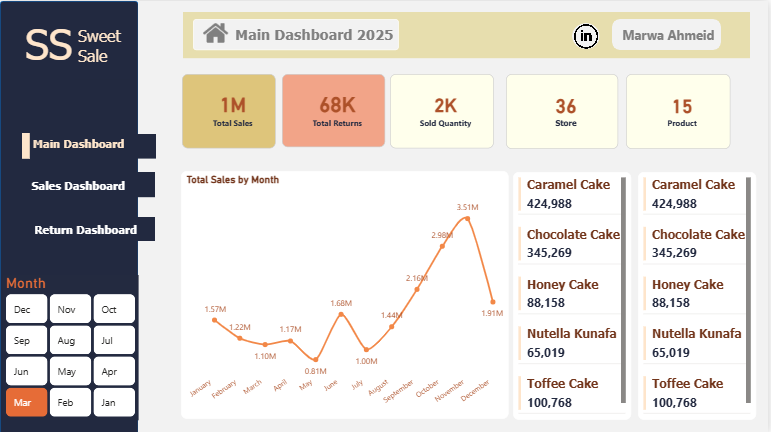

What the dashboard file says about the page in this screenshot:
{"tool":"powerbi","page":{"name":"Main Dashboard","canvas":[1280,720],"ordinal":0},"visuals":[{"type":"shape","box":[0,0,230.4,816.5],"z":0},{"type":"textbox","box":[48.9,221.7,210,41.4],"z":0,"group":"g1"},{"type":"cardVisual","fields":{"Data":["Measure.Total Sales"]},"box":[302.6,121.4,156.4,123.9],"z":1000},{"type":"textbox","box":[36,220.3,12.9,42.9],"z":1000,"group":"g1"},{"type":"cardVisual","fields":{"Data":["Measure.Total Returns"]},"box":[469.4,121.7,171.7,121.7],"z":2000},{"type":"cardVisual","fields":{"Data":["Measure.Total Quantity"]},"box":[649.6,121.4,172.6,123.9],"z":3000},{"type":"cardVisual","fields":{"Data":["Count(all sales.Store names)"]},"box":[842.6,121.2,187.2,125.3],"z":4000},{"type":"textbox","box":[36.7,21.7,103.3,118.3],"z":5000},{"type":"cardVisual","fields":{"Data":["Count(all sales.المنتج)"]},"box":[1044.2,121.2,174.2,125.3],"z":6000},{"type":"textbox","box":[125.3,36,90.7,93.6],"z":7000},{"type":"textbox","box":[305,18.3,945,76.7],"z":8000},{"type":"shape","box":[953.6,37.3,46.4,43.6],"z":9000},{"type":"shape","box":[1020,30,181.7,51.7],"z":10000},{"type":"image","box":[933.6,30,87.3,58.2],"z":11000},{"type":"textbox","box":[1020,36.7,181.7,53.3],"z":12000},{"type":"textbox","box":[49,360,210.2,40.3],"z":13000},{"type":"textbox","box":[49,285.1,210.2,41.8],"z":14000},{"type":"group","id":"g1","title":"Group 1","box":[36,220.3,223.2,41.8],"z":15000},{"type":"textbox","box":[321.7,30,343.3,51.7],"z":16000},{"type":"advancedSlicerVisual","title":"Month ","fields":{"Values":["all sales.Month Name"]},"box":[4.3,456.5,226.1,241.9],"z":17000},{"type":"lineChart","fields":{"Category":["all sales.تاربخ.Variation.Date Hierarchy.Month"],"Y":["Measure.Total Sales"]},"box":[302.4,283.7,545.8,413.3],"z":18000},{"type":"multiRowCard","fields":{"Values":["all sales.المنتج","Measure.Total Sales"]},"box":[855.4,285.1,197.3,413.3],"z":19000},{"type":"multiRowCard","fields":{"Values":["all sales.المنتج","Measure.Total Sales"]},"box":[1064.2,285.1,197.3,413.3],"z":20000},{"type":"actionButton","box":[49,286.6,210.2,40.3],"z":21000},{"type":"actionButton","box":[53.3,360,205.9,40.3],"z":22000},{"type":"image","box":[338.3,31.7,41.6,43.2],"z":23000}]}

Visuals, with their boxes in screenshot pixels (x1, y1, x2, y2), scaled from the page's 1280x720 canvas onto the 771x432 screenshot:
shape: <region>0, 0, 139, 431</region>
textbox: <region>29, 133, 156, 158</region>
cardVisual - Measure.Total Sales: <region>182, 73, 276, 147</region>
textbox: <region>22, 132, 29, 158</region>
cardVisual - Measure.Total Returns: <region>283, 73, 386, 146</region>
cardVisual - Measure.Total Quantity: <region>391, 73, 495, 147</region>
cardVisual - Count(all sales.Store names): <region>508, 73, 620, 148</region>
textbox: <region>22, 13, 84, 84</region>
cardVisual - Count(all sales.المنتج): <region>629, 73, 734, 148</region>
textbox: <region>75, 22, 130, 78</region>
textbox: <region>184, 11, 753, 57</region>
shape: <region>574, 22, 602, 49</region>
shape: <region>614, 18, 724, 49</region>
image: <region>562, 18, 615, 53</region>
textbox: <region>614, 22, 724, 54</region>
textbox: <region>30, 216, 156, 240</region>
textbox: <region>30, 171, 156, 196</region>
"Group 1" group: <region>22, 132, 156, 157</region>
textbox: <region>194, 18, 401, 49</region>
"Month " advancedSlicerVisual: <region>3, 274, 139, 419</region>
lineChart - all sales.تاربخ.Variation.Date Hierarchy.Month x Measure.Total Sales: <region>182, 170, 511, 418</region>
multiRowCard - all sales.المنتج x Measure.Total Sales: <region>515, 171, 634, 419</region>
multiRowCard - all sales.المنتج x Measure.Total Sales: <region>641, 171, 760, 419</region>
actionButton: <region>30, 172, 156, 196</region>
actionButton: <region>32, 216, 156, 240</region>
image: <region>204, 19, 229, 45</region>
